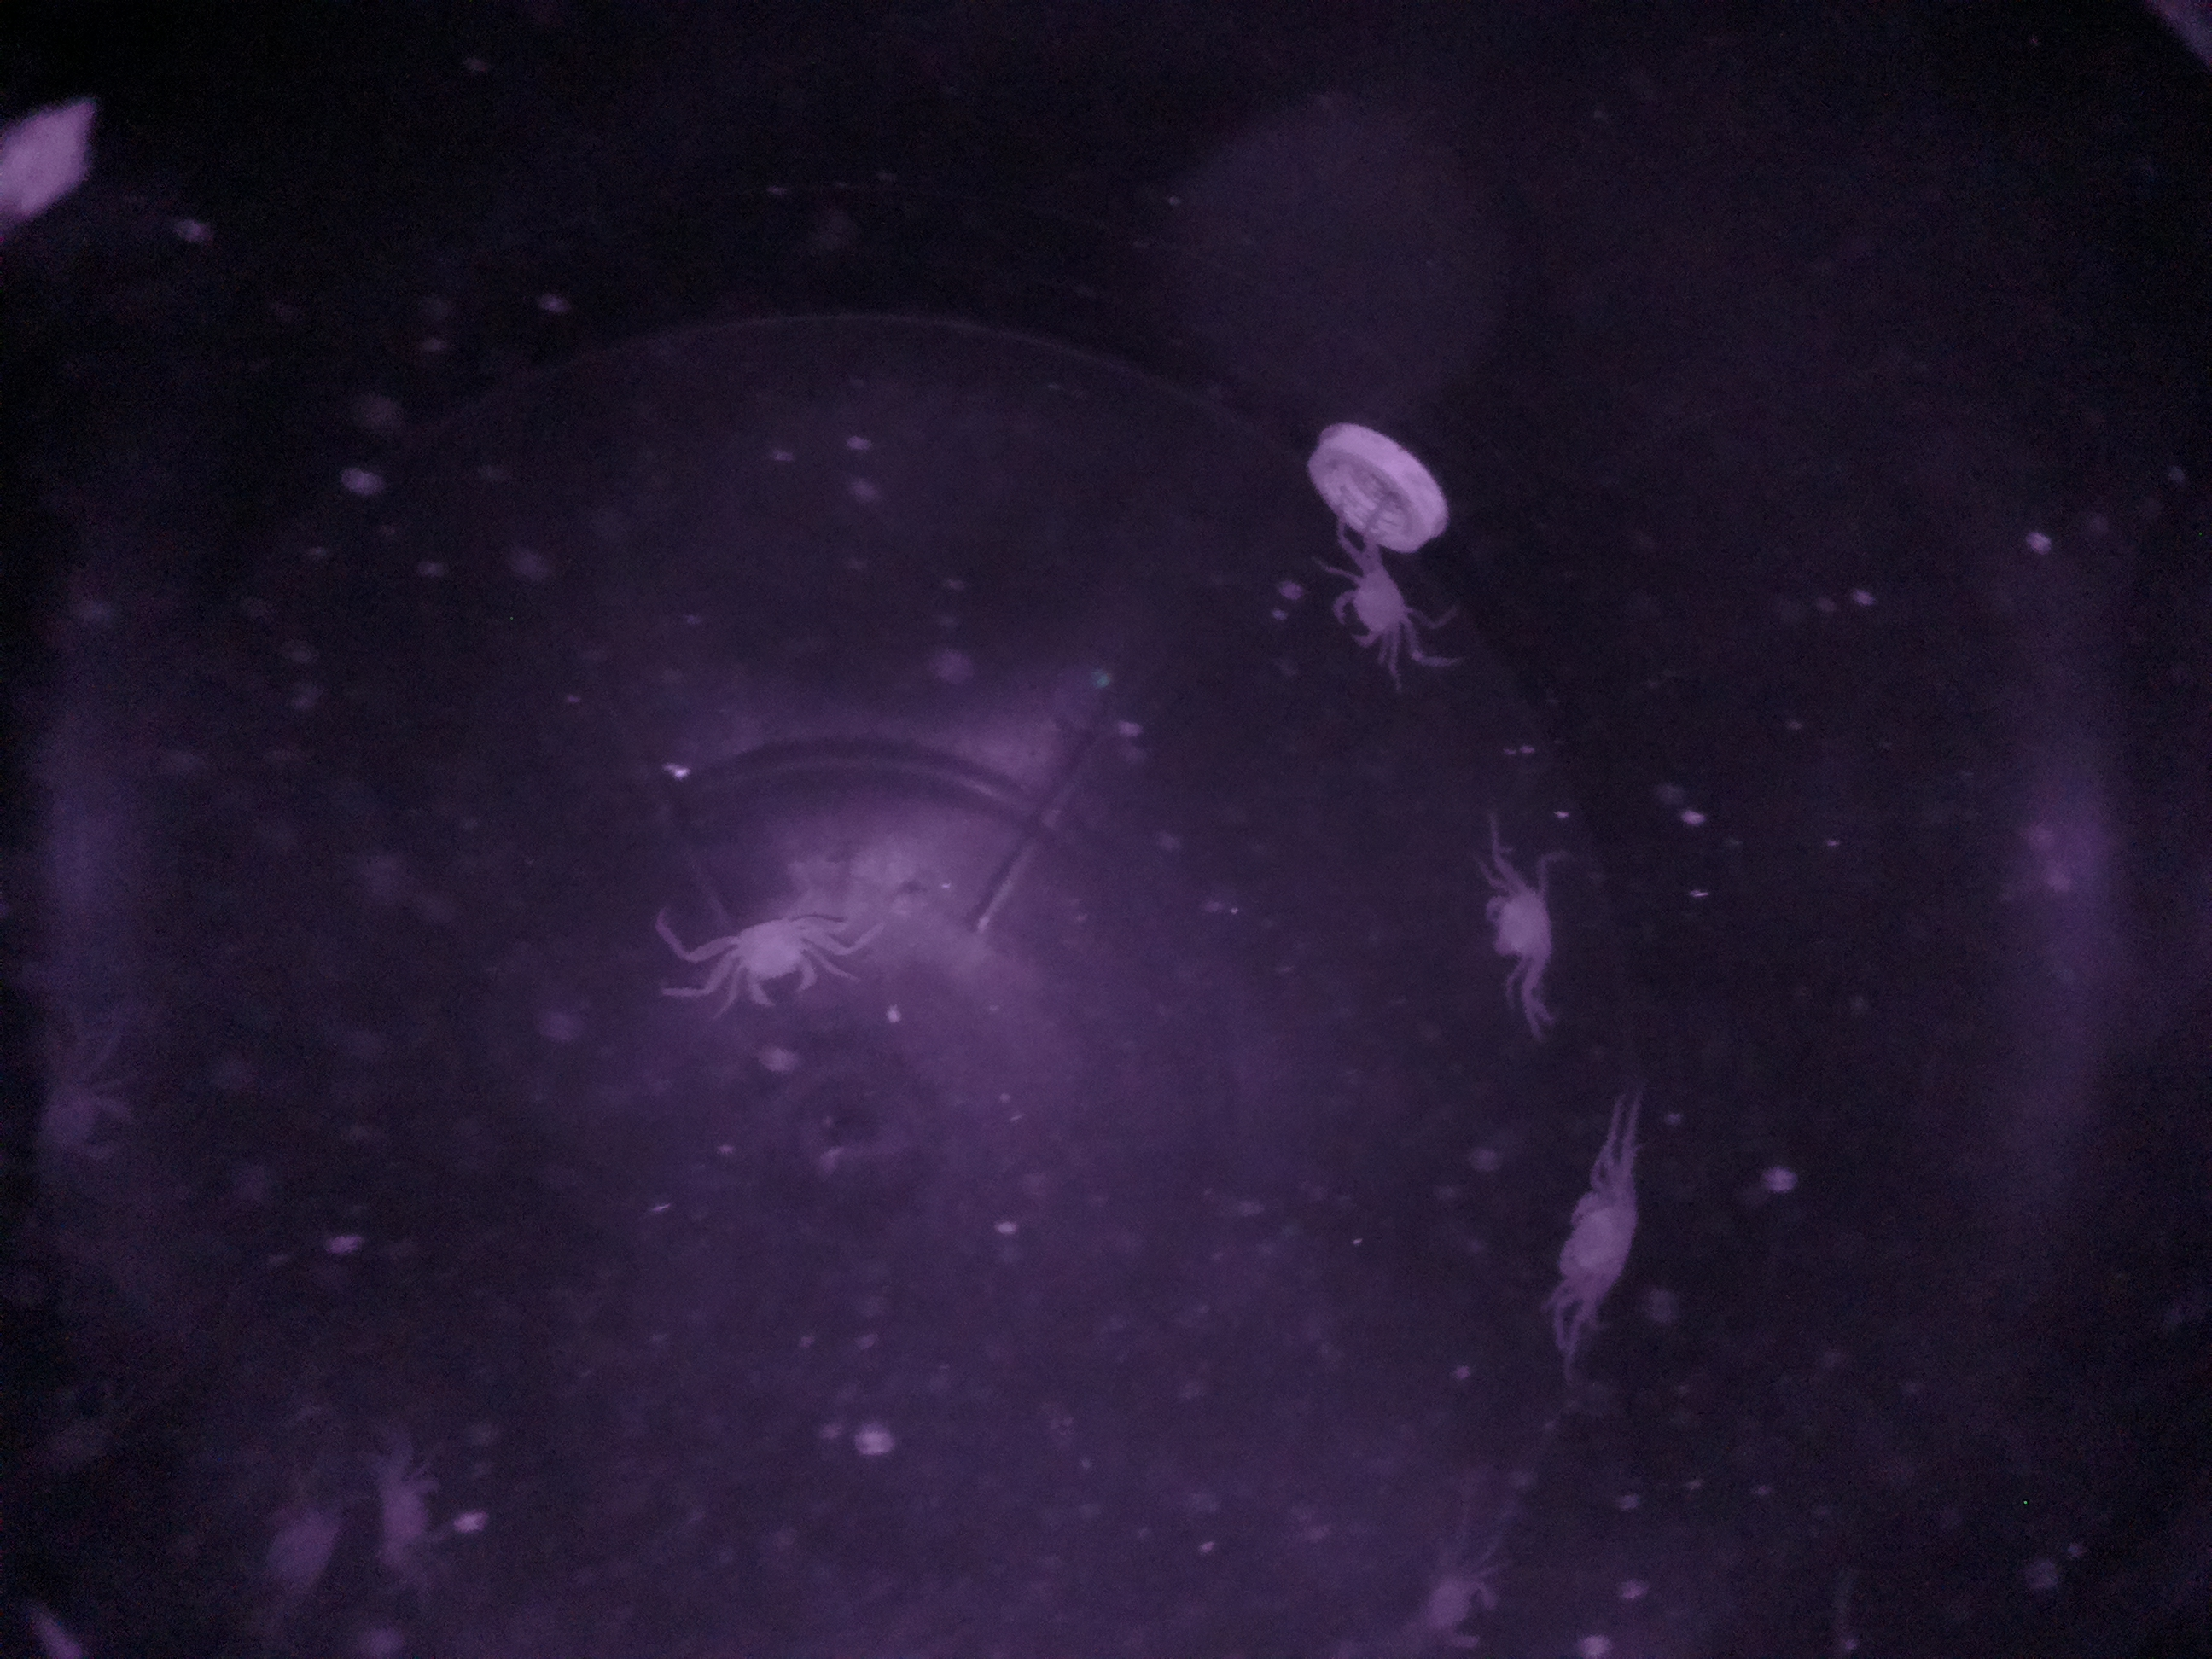Crab: (1533, 1161, 1658, 1340), (714, 884, 836, 1037), (1465, 854, 1587, 1007), (1322, 537, 1432, 674)
